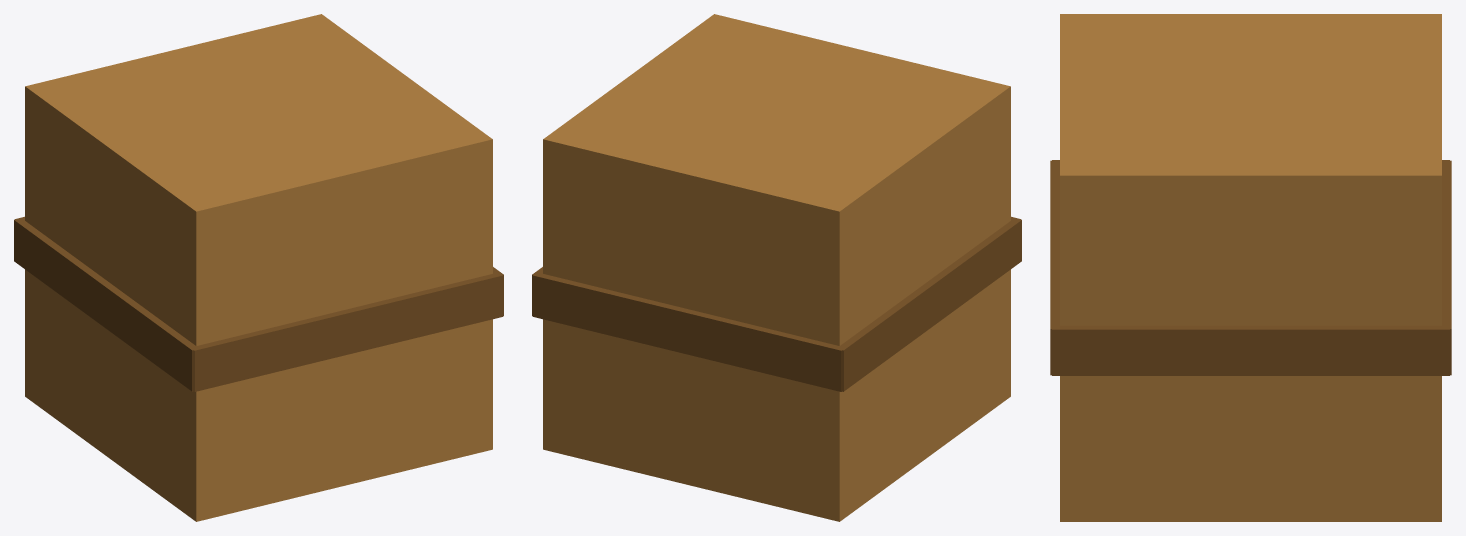
Rendered from caisse.glb.
3 renders of one model, left to right at view 1: azimuth 30°, elevation 25°; view 2: azimuth 150°, elevation 25°; view 3: azimuth 270°, elevation 25°, orthographic. The views are drawn at different scales.
Size of the model in its own units: 1.26 by 1.2 by 1.26.
